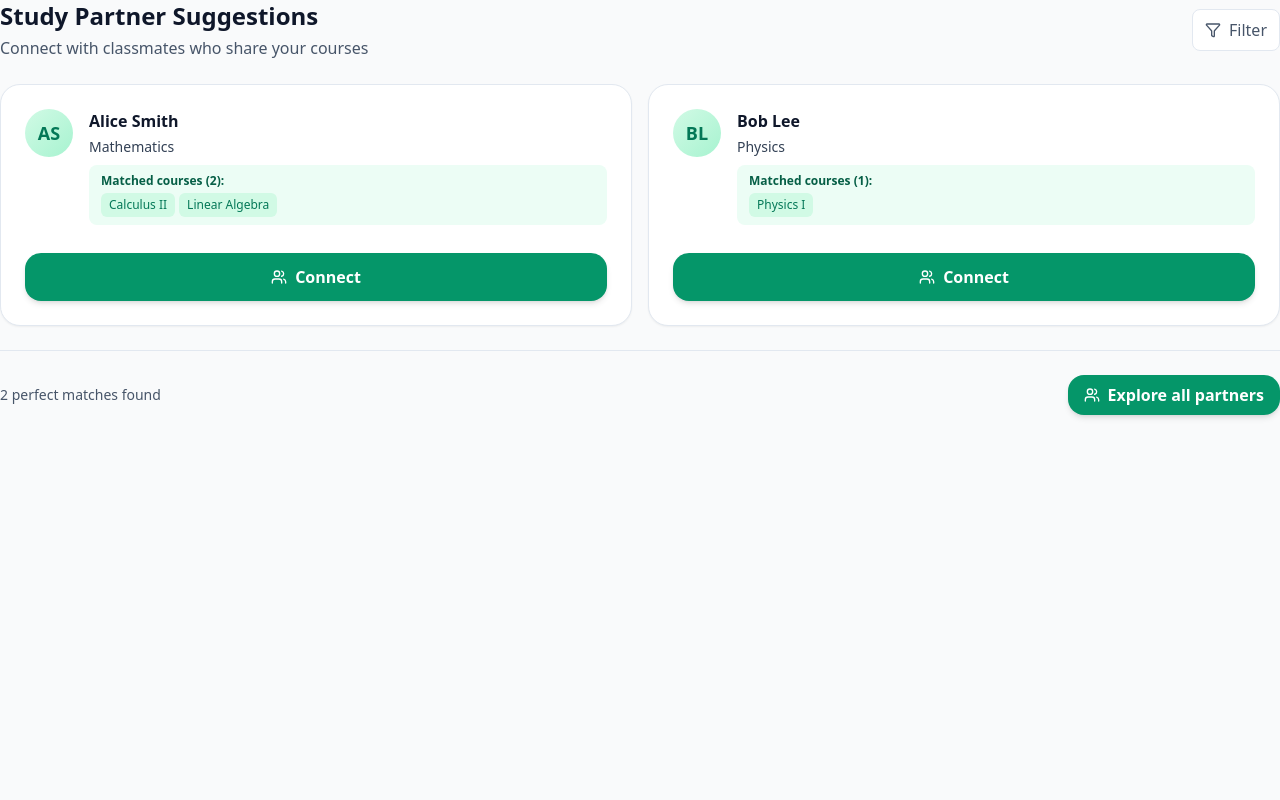
Test case: BuddySearch › handles pending invites state correctly
Check: the heading "Alice Smith" is shown, box [89,110,178,132]
# Send invite to first person
Click the button "Connect" below "Alice Smith": (316, 277) [25,253,607,301]
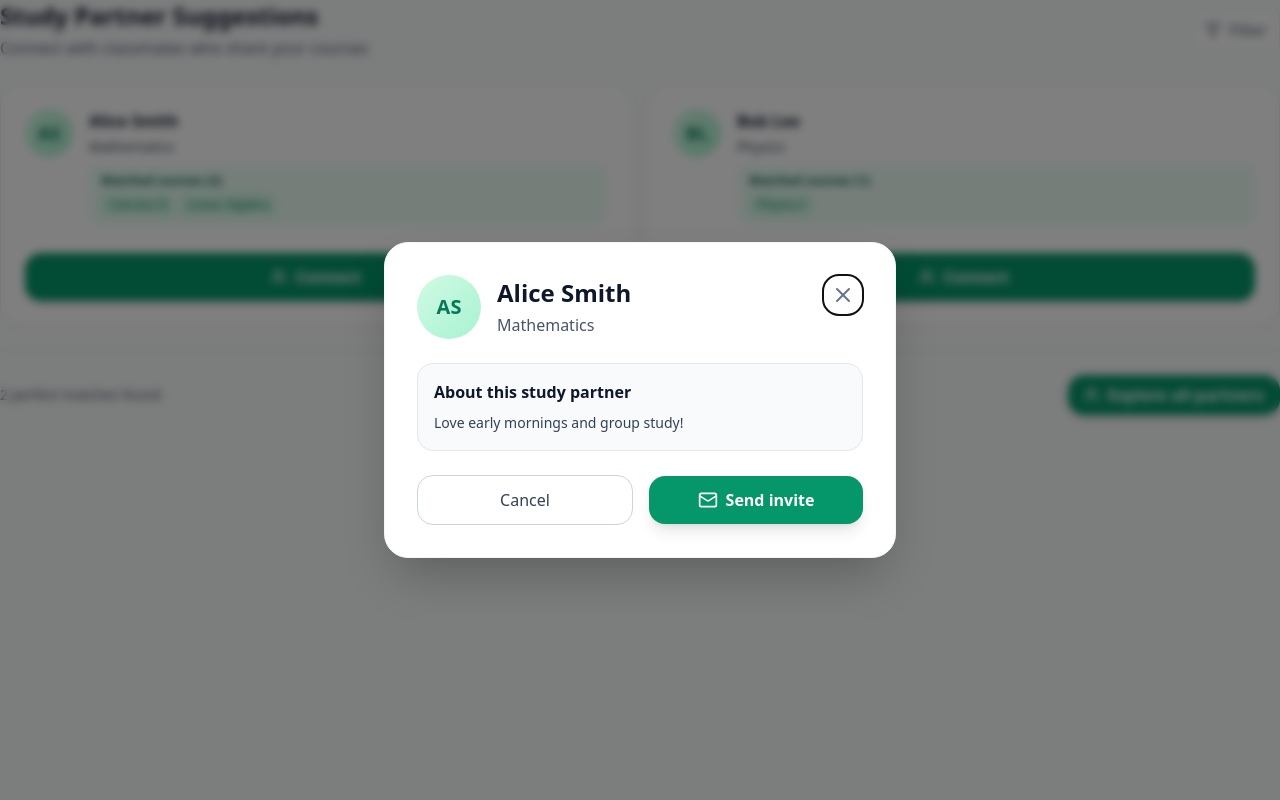
Click the button "Send invite": (756, 500) [649,476,863,524]
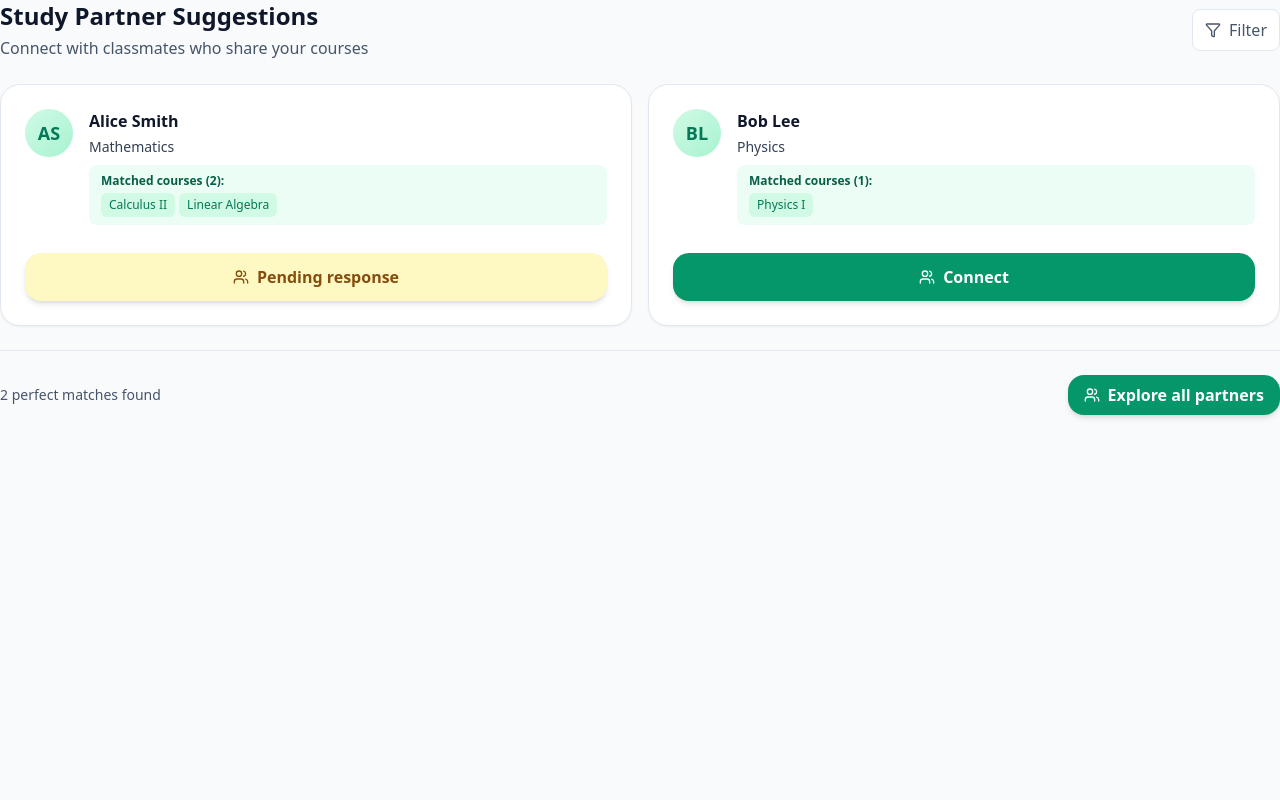
Check: the button "Pending response" is shown, box [25,253,607,301]
Check: the dialog is gone
